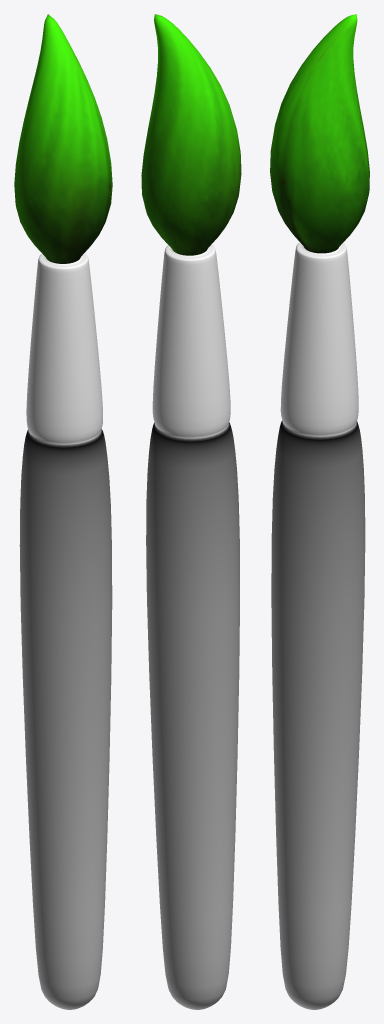
Rendered from Brush01.fbx.
The picture shows the model from 3 angles, left to right: view 1: azimuth 90°, elevation 25°; view 2: azimuth 150°, elevation 25°; view 3: azimuth 330°, elevation 25°; orthographic projection.
Parts seen in each view (by area): view 1: Art_Supplies___Brushes_005, Art_Supplies___Brushes_002; view 2: Art_Supplies___Brushes_005, Art_Supplies___Brushes_002; view 3: Art_Supplies___Brushes_005, Art_Supplies___Brushes_002.
Boxes of the visible parts, x1,y1,x2,y2 form: Art_Supplies___Brushes_005: (19,253,112,1009); Art_Supplies___Brushes_002: (14,14,112,263); Art_Supplies___Brushes_005: (146,244,239,1009); Art_Supplies___Brushes_002: (141,14,241,255); Art_Supplies___Brushes_005: (271,242,365,1009); Art_Supplies___Brushes_002: (270,14,369,253).
Bounding box in the file's own units: 2.33 × 25.55 × 2.33.
